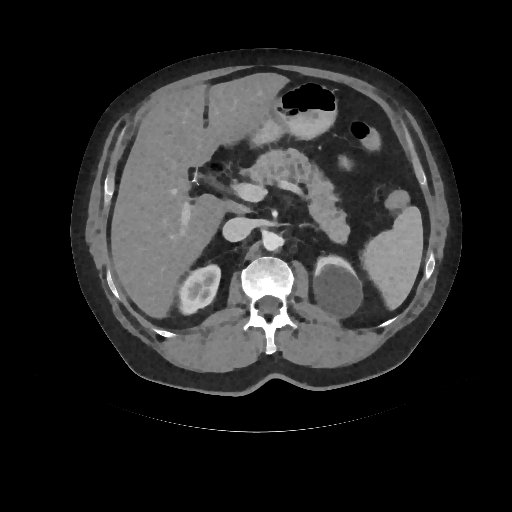Lesion: (309, 262, 363, 323)
